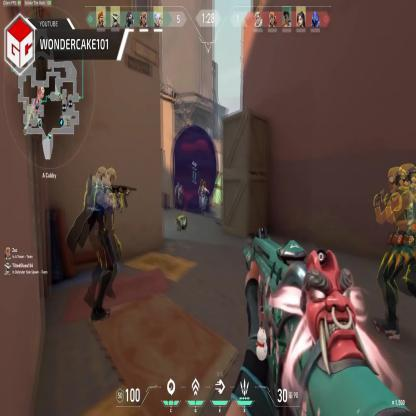enemy: (375, 164, 415, 344), (90, 167, 122, 320), (198, 180, 206, 214), (177, 182, 184, 212)
enemy_head: (386, 170, 404, 194), (99, 167, 112, 187), (203, 182, 207, 187), (180, 184, 182, 190)
